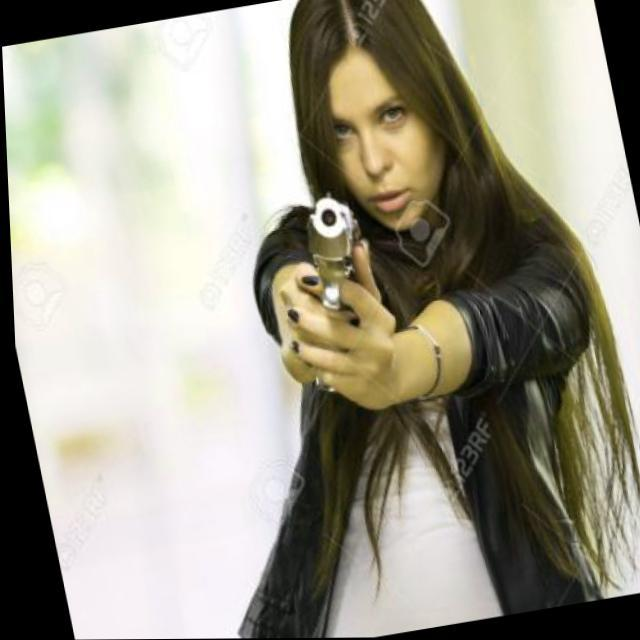weapon: (268, 182, 412, 406)
